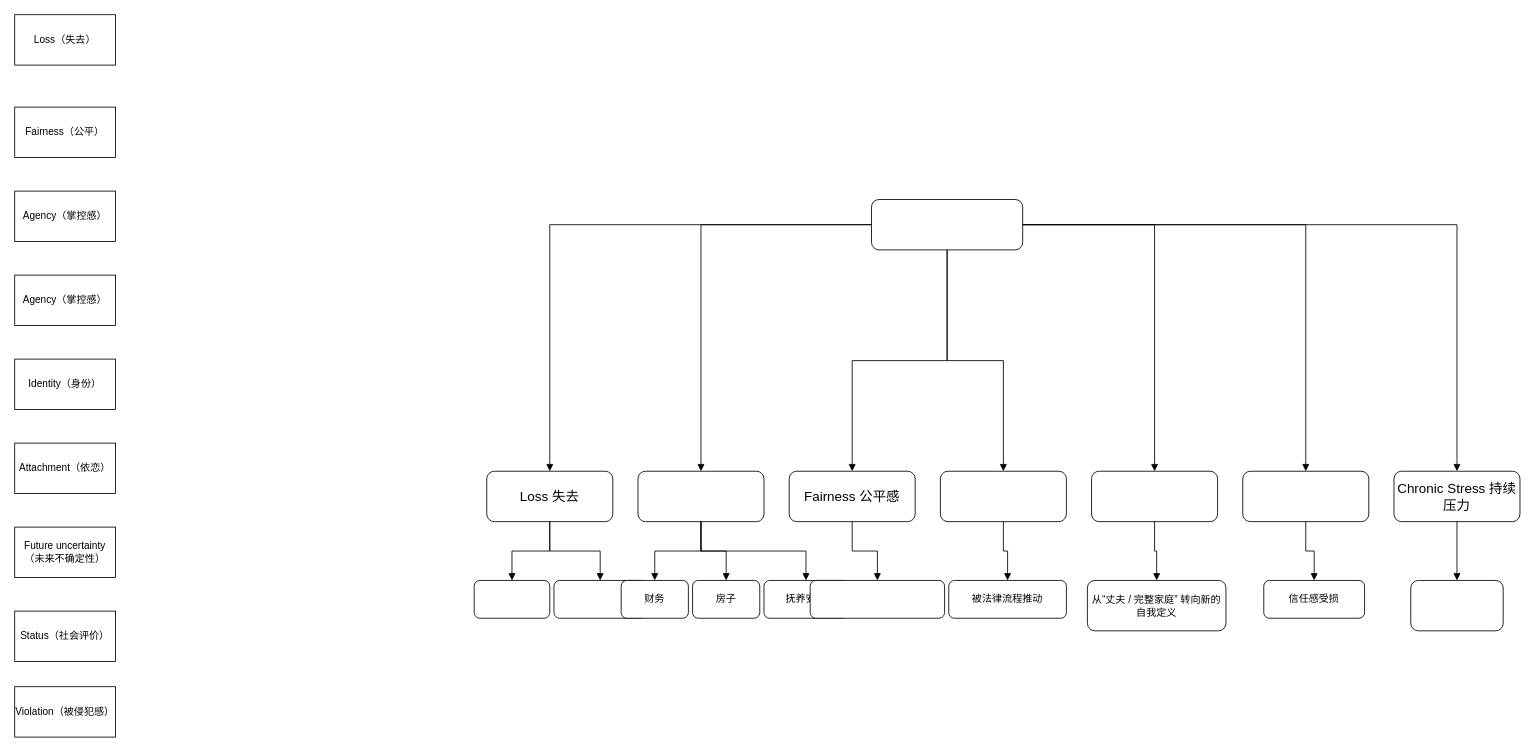
The diagram is 1535 pixels wide and 752 high, and some of its shapes have lost their labels. The box of each missing label's shape, as (x1, y1, x2, y2) in pixels:
Agency 掌控感: (940, 470, 1066, 522)
Identity 身份认同: (1091, 470, 1218, 522)
Moral Injury 道德受伤: (1242, 470, 1369, 522)
Uncertainty 不确定性: (637, 470, 764, 522)
家庭: (473, 580, 550, 618)
感觉自己一直在让步: (809, 580, 945, 618)
持续半年以上 无法关闭: (1410, 580, 1503, 631)
每天陪孩子: (553, 580, 646, 618)
离婚痛苦: (871, 199, 1023, 250)
